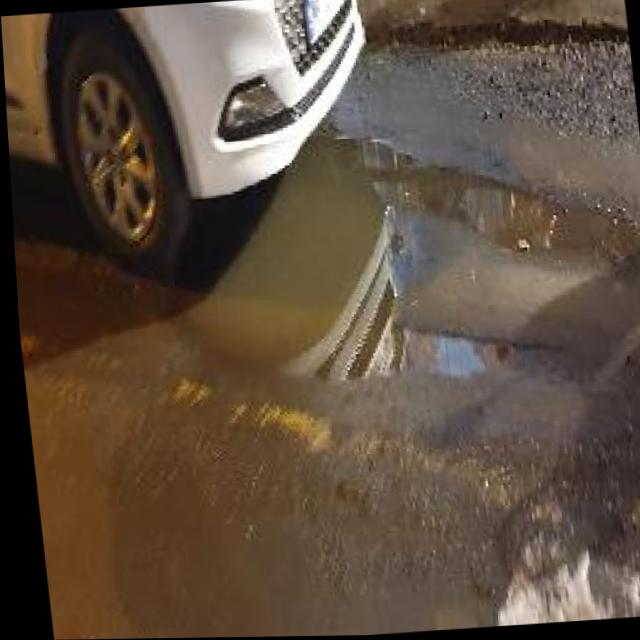puddle: (162, 109, 640, 409)
